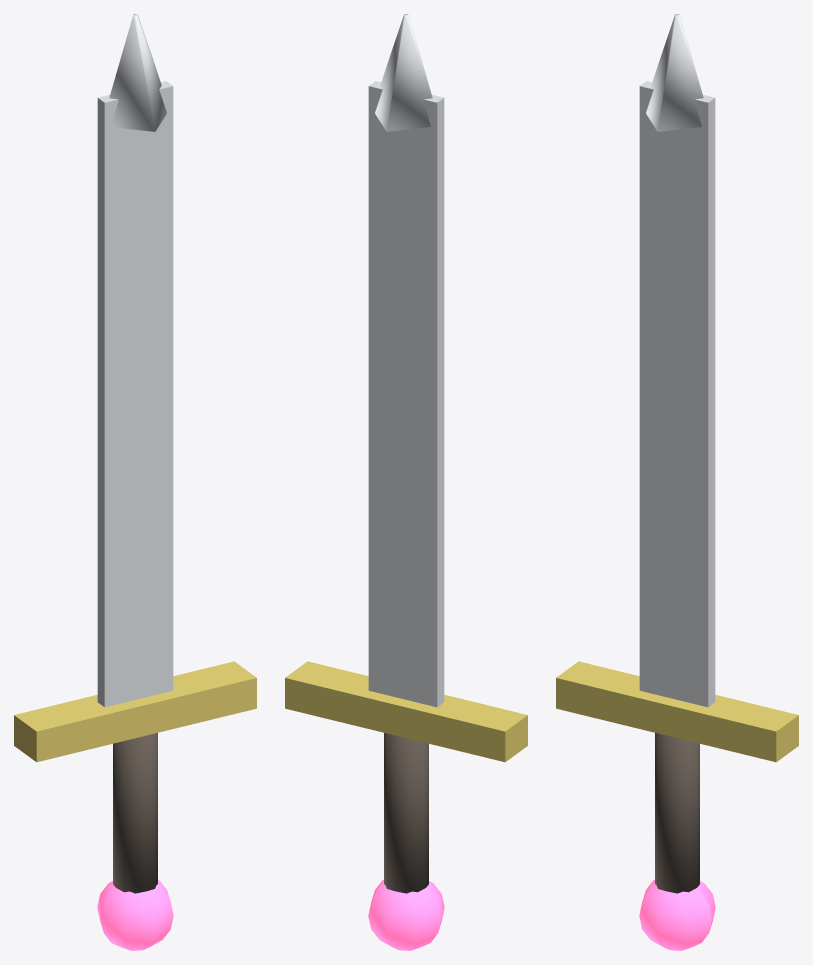
The model's file is 45cd5490-fe82-4162-bbca-009e0664fb07.glb.
3 views of the same model, side by side, from view 1: azimuth 30°, elevation 25°; view 2: azimuth 150°, elevation 25°; view 3: azimuth 330°, elevation 25° (orthographic).
Parts seen in each view (by area): view 1: GeneratedObject3D; view 2: GeneratedObject3D; view 3: GeneratedObject3D.
Part boxes in pixels (x1,y1,x2,y2): GeneratedObject3D: [14, 14, 256, 950]; GeneratedObject3D: [285, 14, 527, 950]; GeneratedObject3D: [556, 14, 798, 950].
Size of the model in its own units: 0.9 by 3.64 by 0.28.
